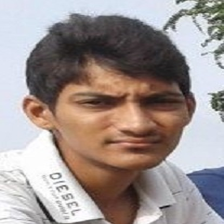no_mask: (56, 51, 187, 166)
